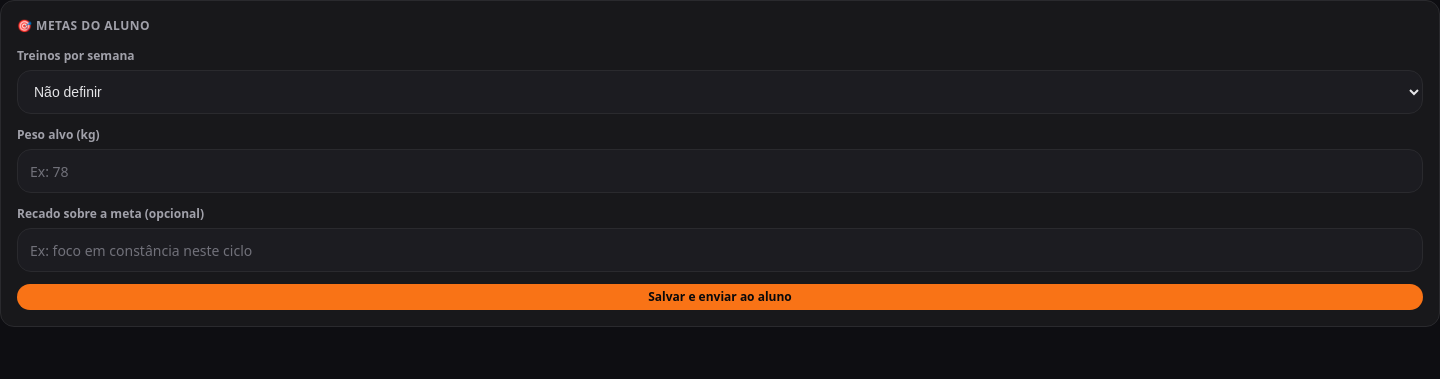
Test: ClientGoals › sem nenhuma meta definida avisa
Expected: the dropdown labelled "Treinos por semana" is shown, [17,70,1423,114]
Click the button "Salvar e enviar ao aluno". click: (720, 297)
box: [17,284,1423,310]
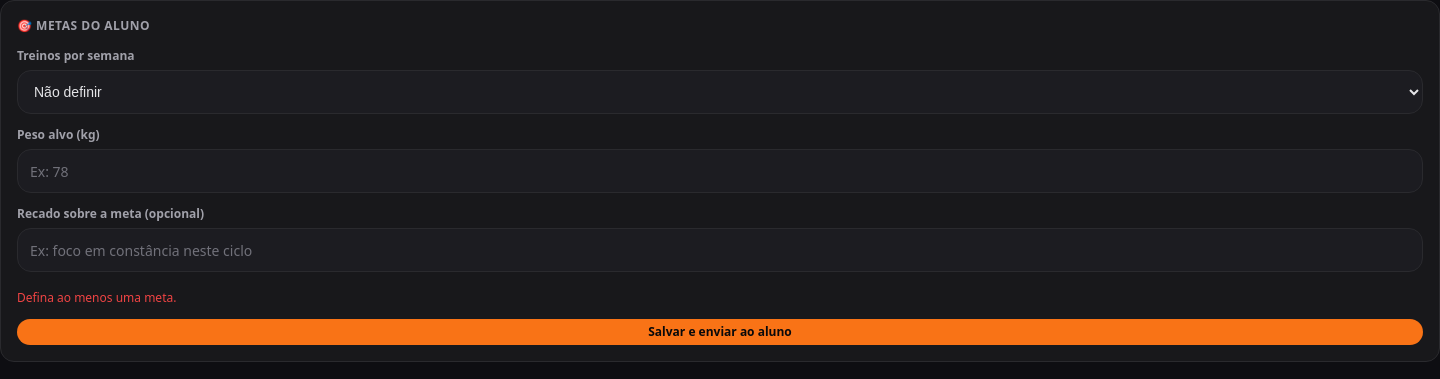
Result: the message reads "Defina ao menos uma meta." at [17,289,176,306]
